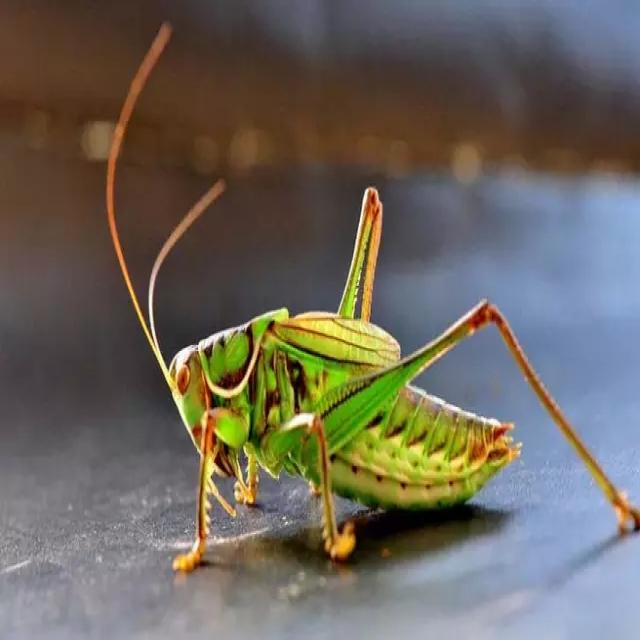ZhaMeng: (111, 225, 596, 575)
